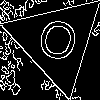O: (32, 16, 82, 72)
